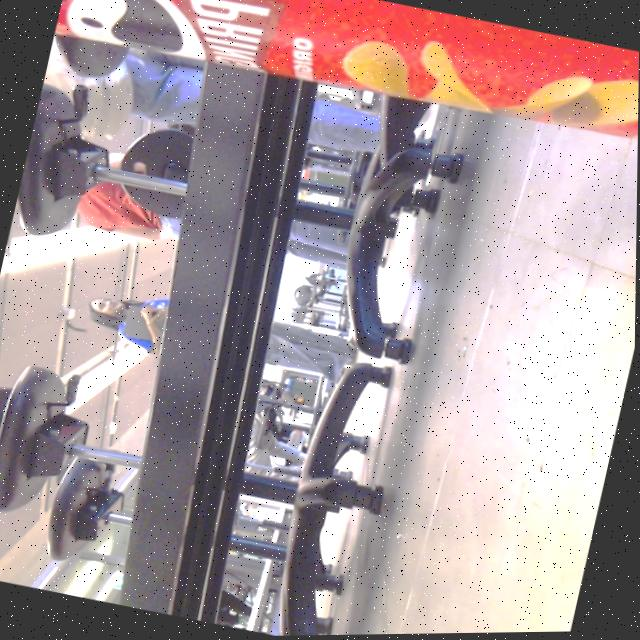redpringles: (45, 0, 640, 196)
